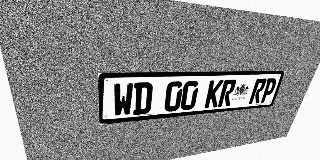0: (164, 81, 184, 112), (180, 81, 200, 111)
D: (133, 82, 153, 115)
K: (204, 80, 224, 108)
P: (259, 78, 278, 103)
R: (218, 79, 237, 107), (248, 78, 267, 104)
W: (113, 83, 134, 117)
